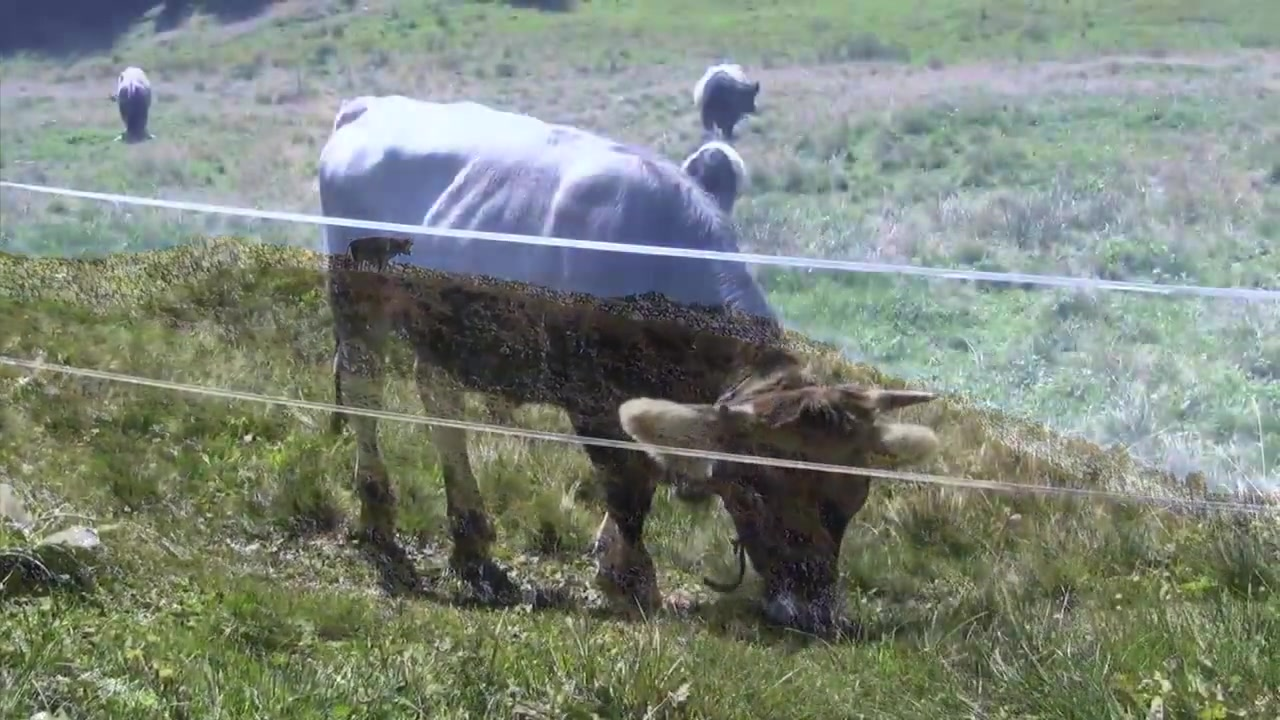cow: (312, 95, 939, 639)
